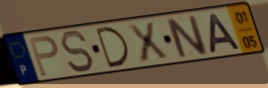A: (208, 12, 243, 55)
D: (93, 25, 132, 70)
N: (163, 14, 211, 61)
P: (26, 34, 60, 78)
S: (58, 29, 97, 74)
X: (125, 20, 171, 64)
